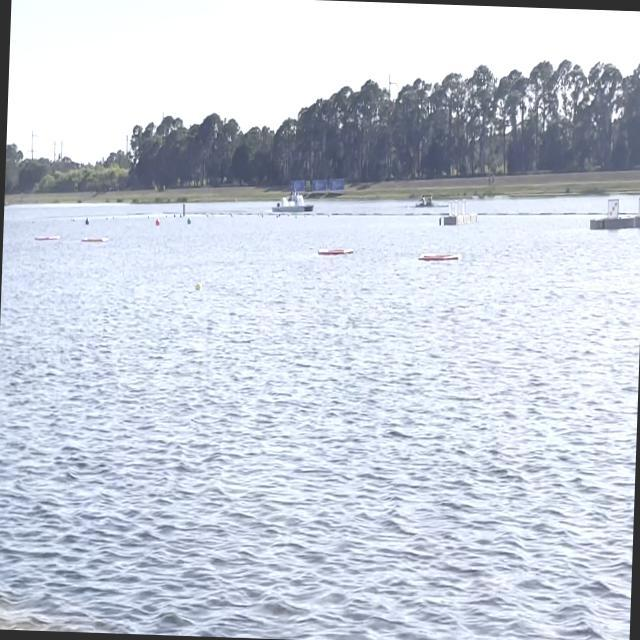buoy: (192, 277, 204, 293), (154, 218, 160, 228), (185, 218, 192, 226)
